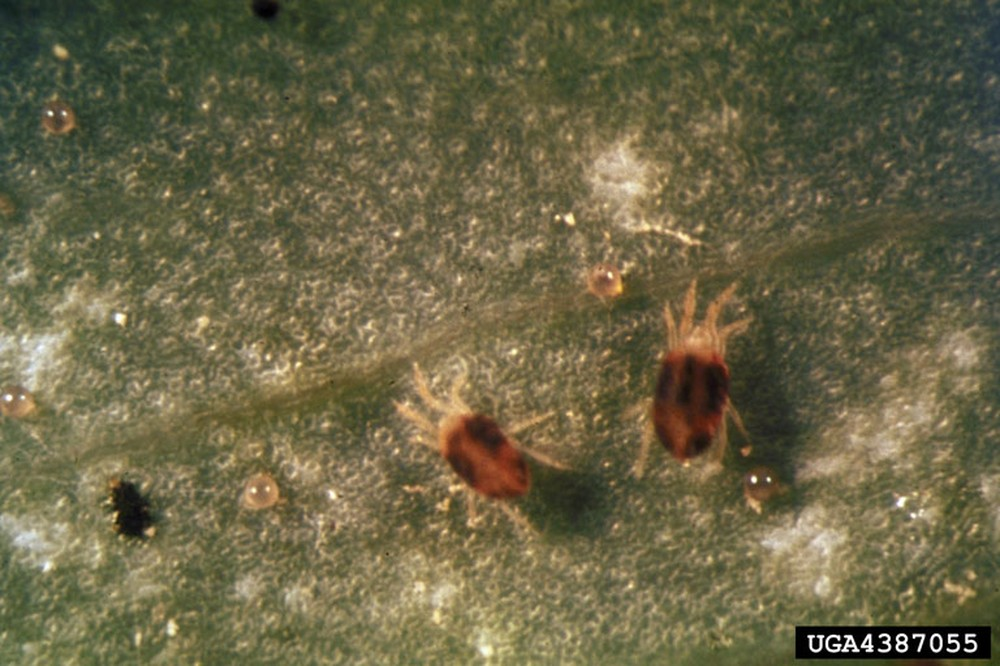Aracnido Rojo: (385, 360, 586, 519), (619, 279, 755, 488)
